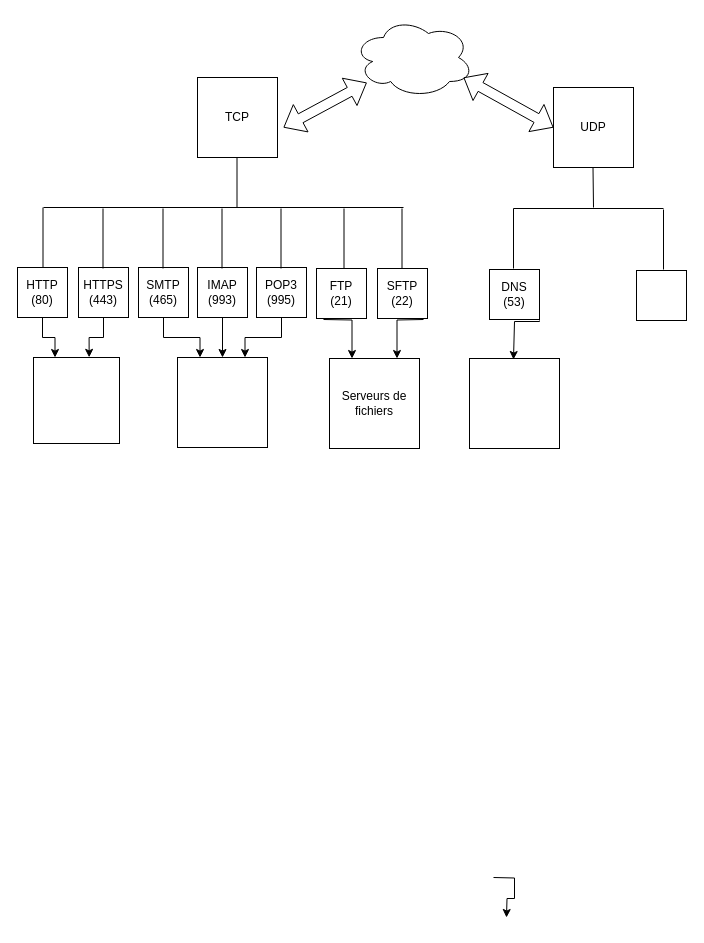
Image size: 704x943. Some labels were removed from this diagram. The shapes that lost their labels are listed below. From the top down, each one's centre as x and y in pixels, then its label:
At point (413, 57): "Internet".
At point (661, 295): "DHCP (67)".
At point (76, 400): "Serveurs WEB".
At point (222, 402): "Serveurs Messagerie".
At point (514, 403): "Serveurs de Domaine".
